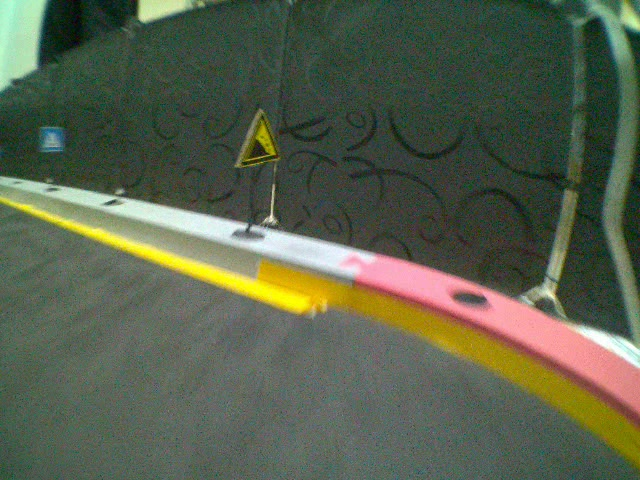crossing: (39, 124, 65, 153)
fast: (234, 107, 282, 167)
